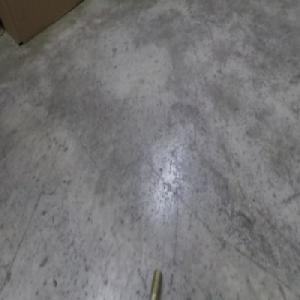Bolt: (148, 269, 161, 299)
